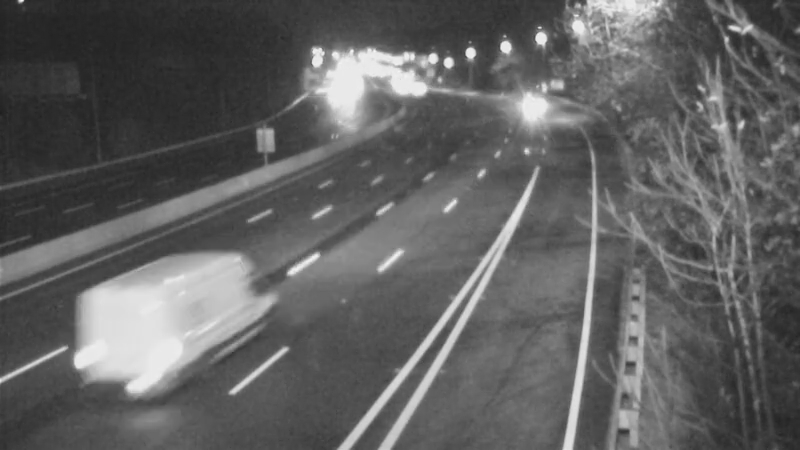vehicle: (75, 285, 185, 395), (493, 78, 543, 128)
